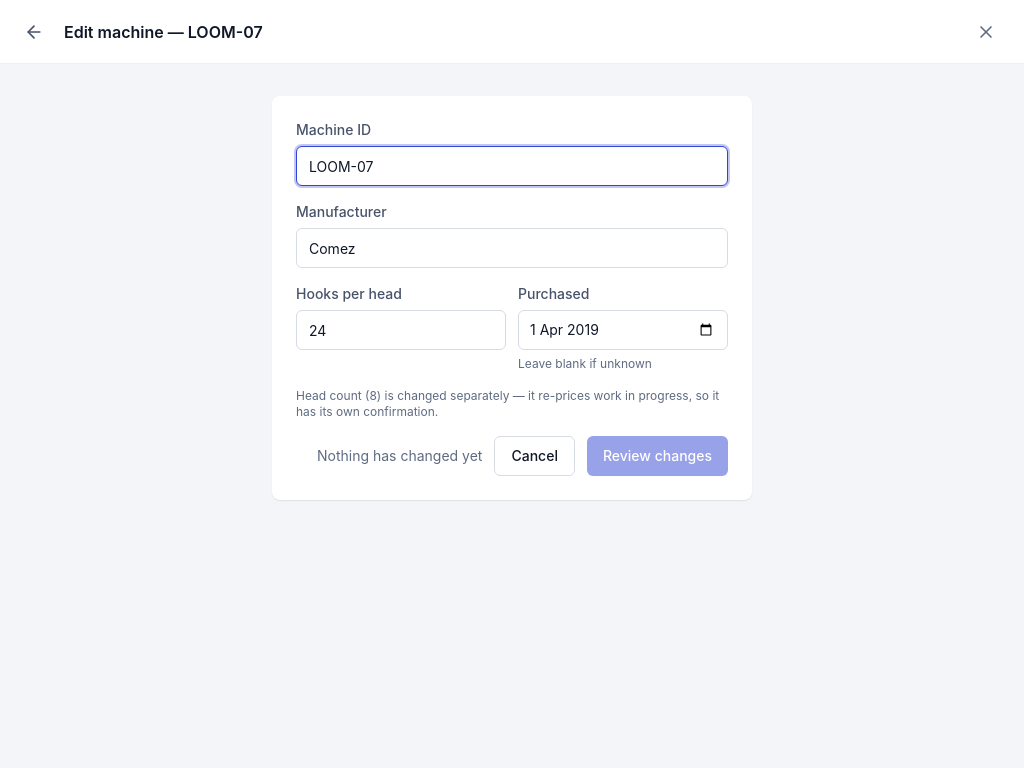
the confirmation › spells out what a hook change actually costs
Step 1. Replace the text in the number field labelled "Hooks per head" with "12" → (401,330), box [296,310,506,350]
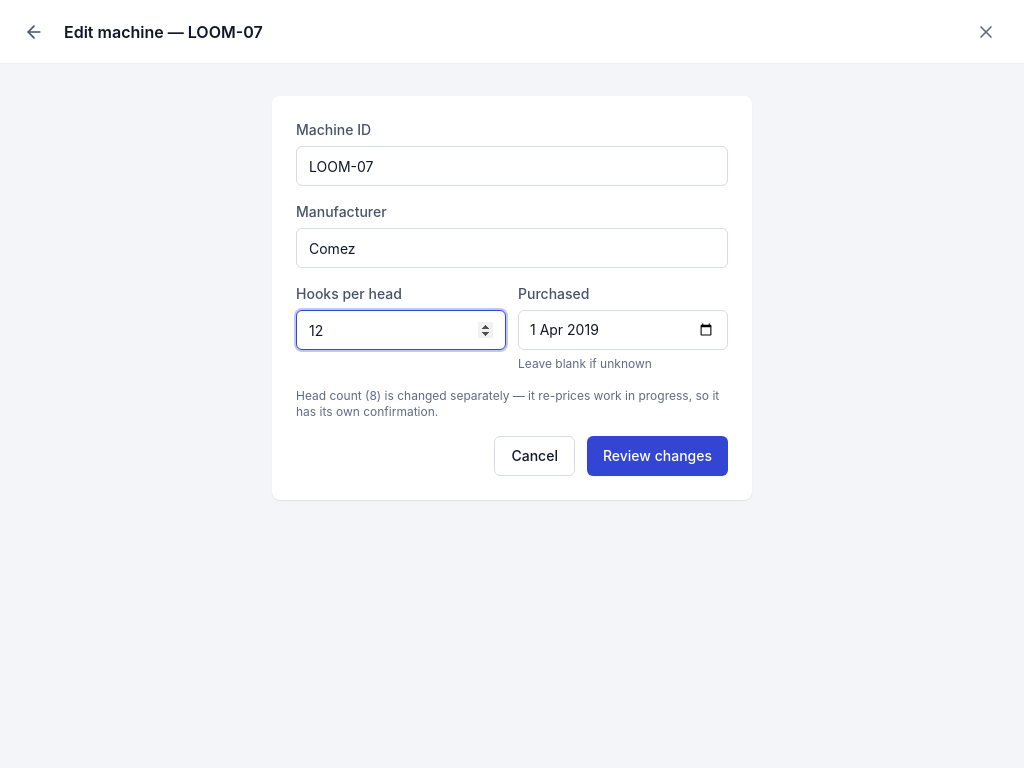
Step 2. Click the button "Review changes" → (657,456), box [587,436,728,476]
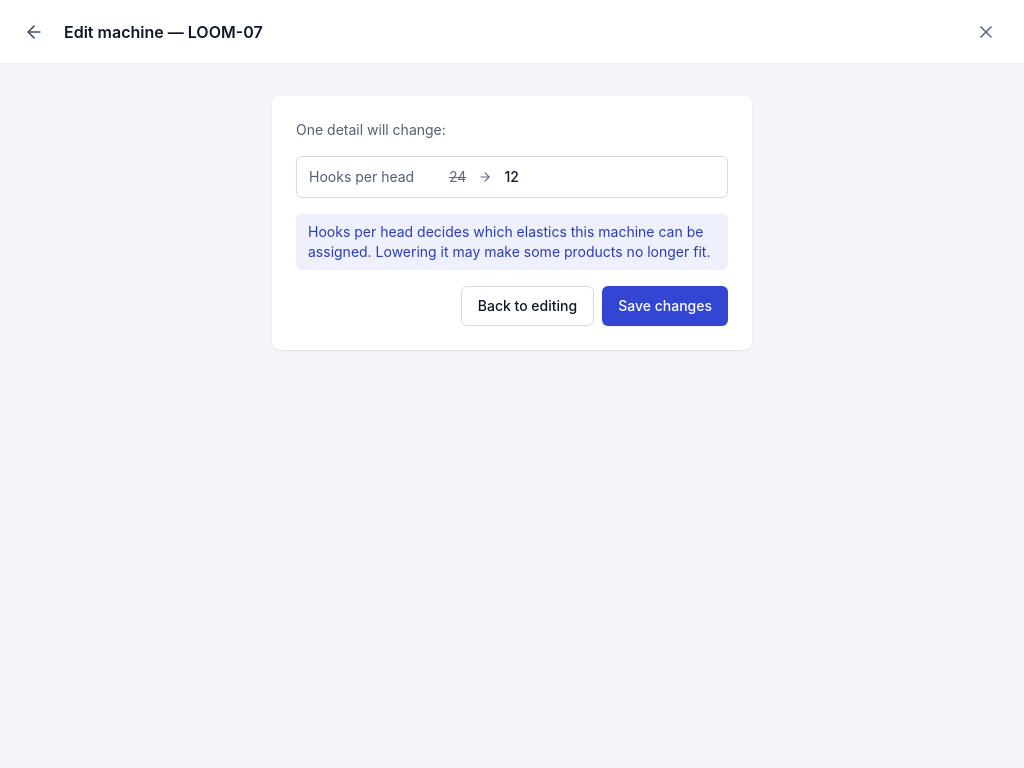
Now the text "decides which elastics" is shown, box [308,223,710,260]
